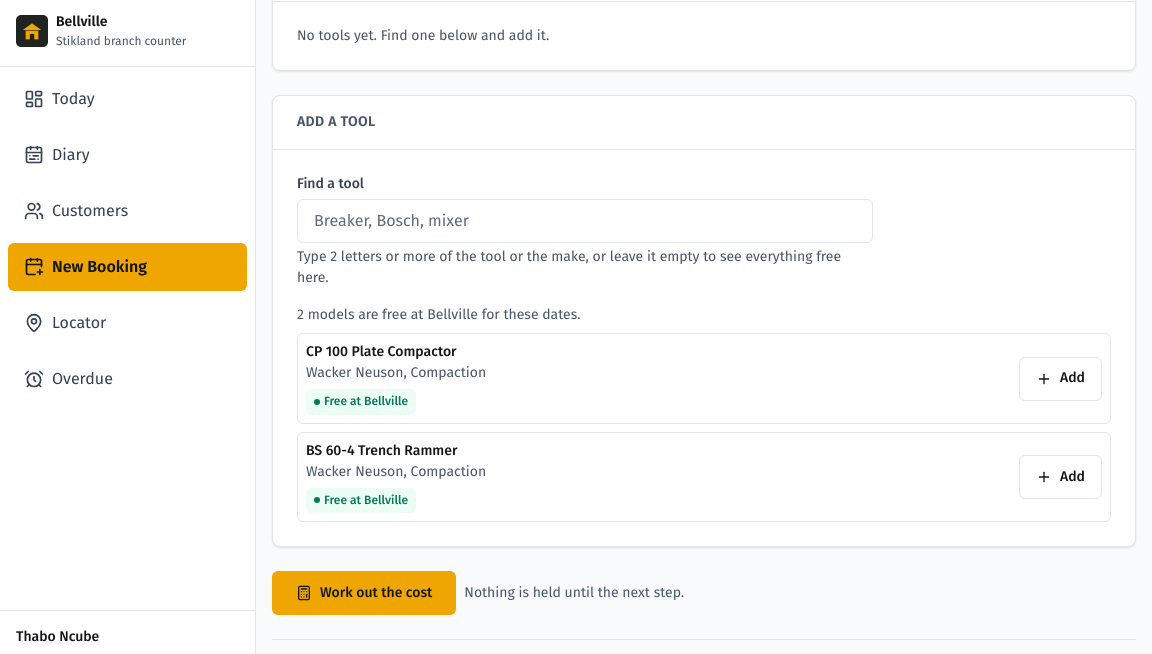
Test: a conflict on the hold › shows the server sentence and lets the assistant change the tools, giving the draft up
The image size is (1152, 654).
(page scrolled)
Click the button "Add" in the row of "CP 100 Plate Compactor". click: (1061, 378)
box: [1019,356,1102,400]
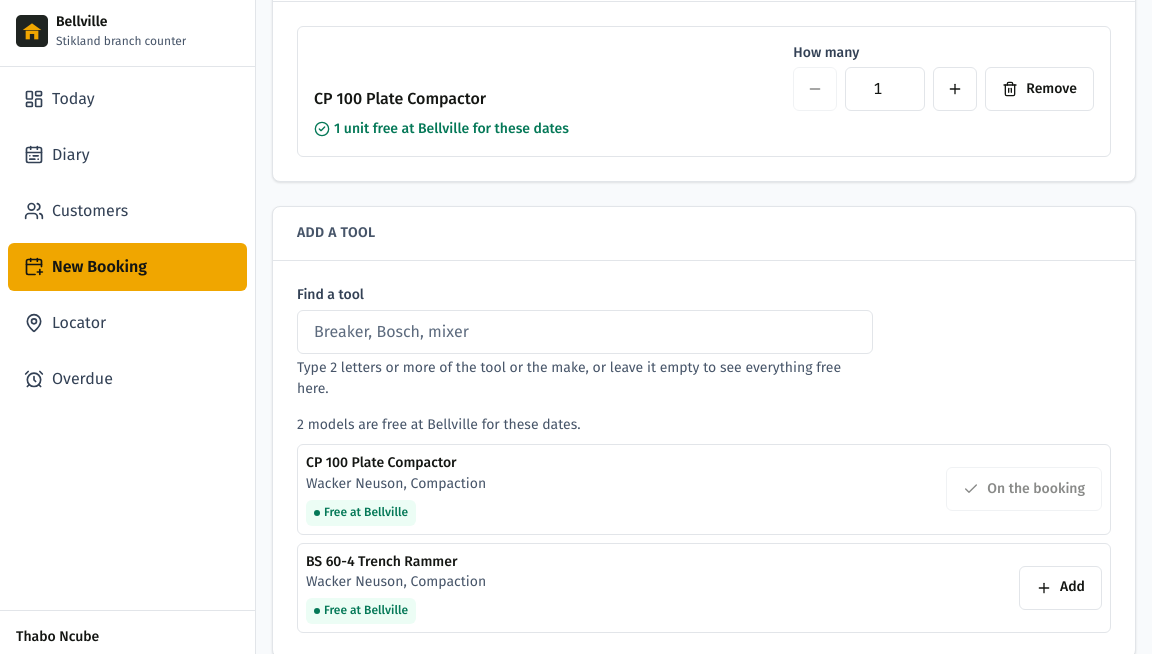
Click the 2nd button. click: (955, 89)
box: [933,67,977,111]
(page scrolled)
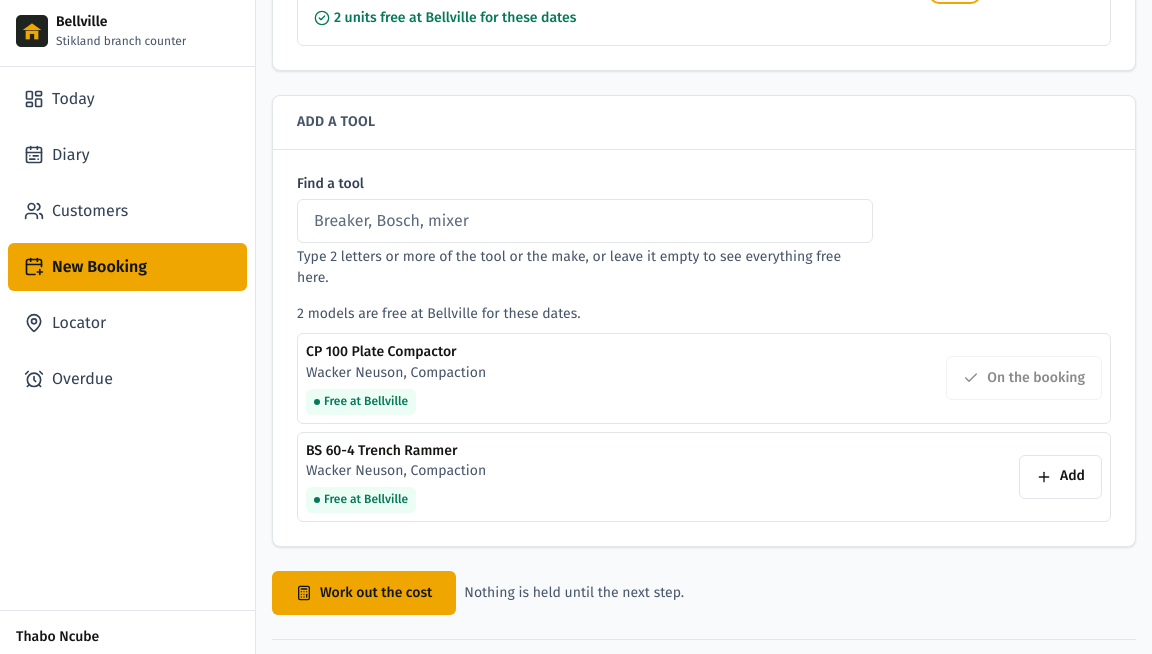
Click the button "Work out the cost". click: (364, 593)
box: [272,571,456,615]
(page scrolled)
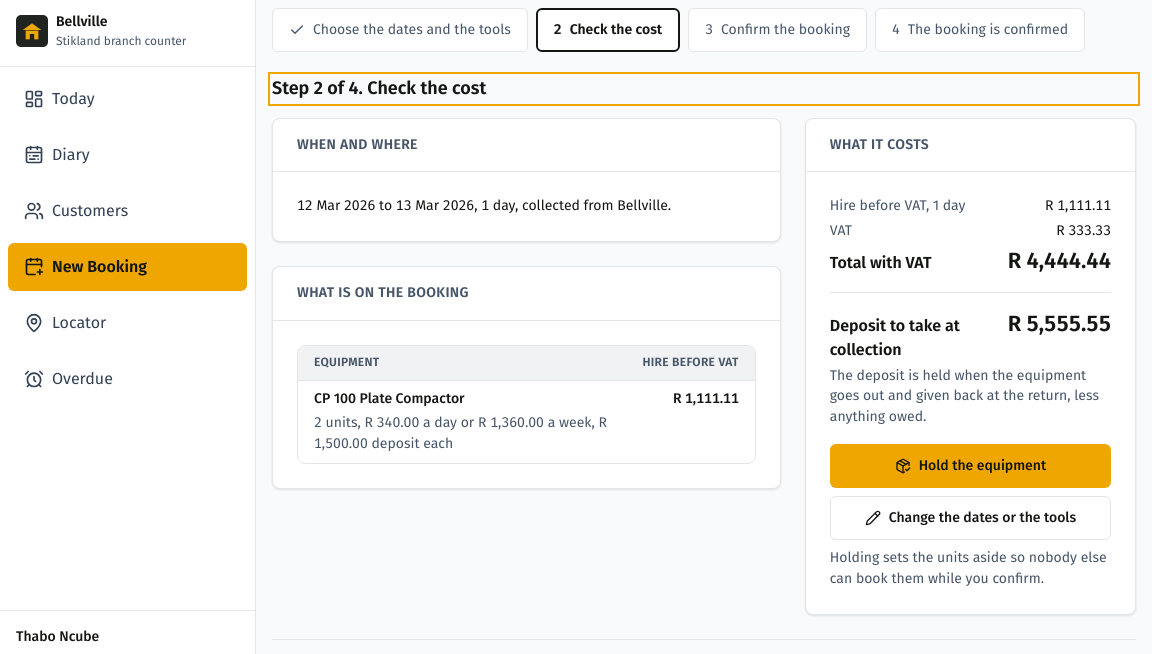
Click the button "Hold the equipment". click: (970, 466)
box: [830,444,1111,488]
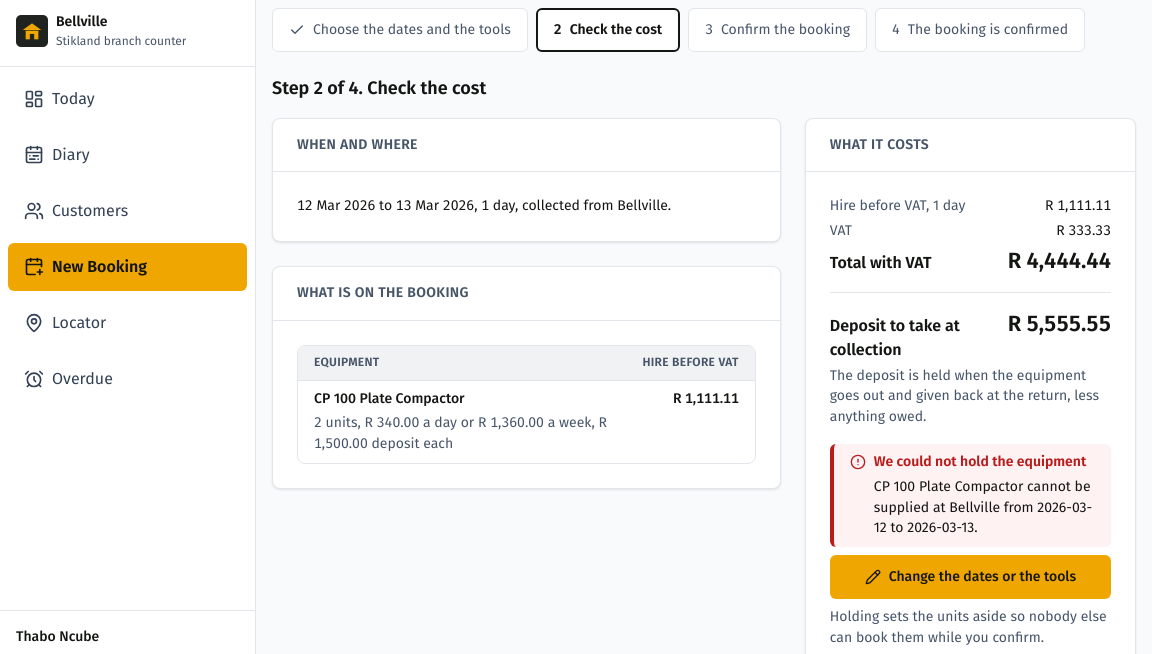
expect the message shows "We could not hold the equipment": met, box [874,453,1086,470]
expect the message shows "CP 100 Plate Compactor cannot be supplied at Bellville from 2026-03-12 to 2026-03-13.": met, box [874,478,1092,536]
Click the button "Change the dates or the tools". click: (970, 577)
box: [830,555,1111,599]
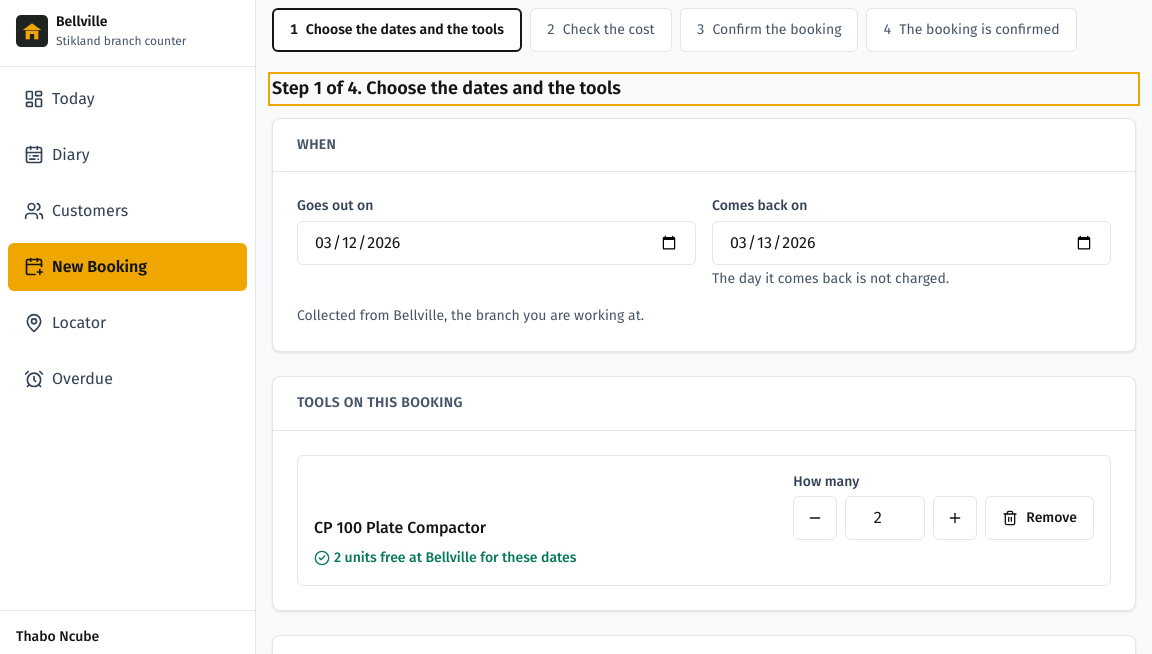
expect the number field labelled "How many" holds "2": met, box [845,496,925,540]
